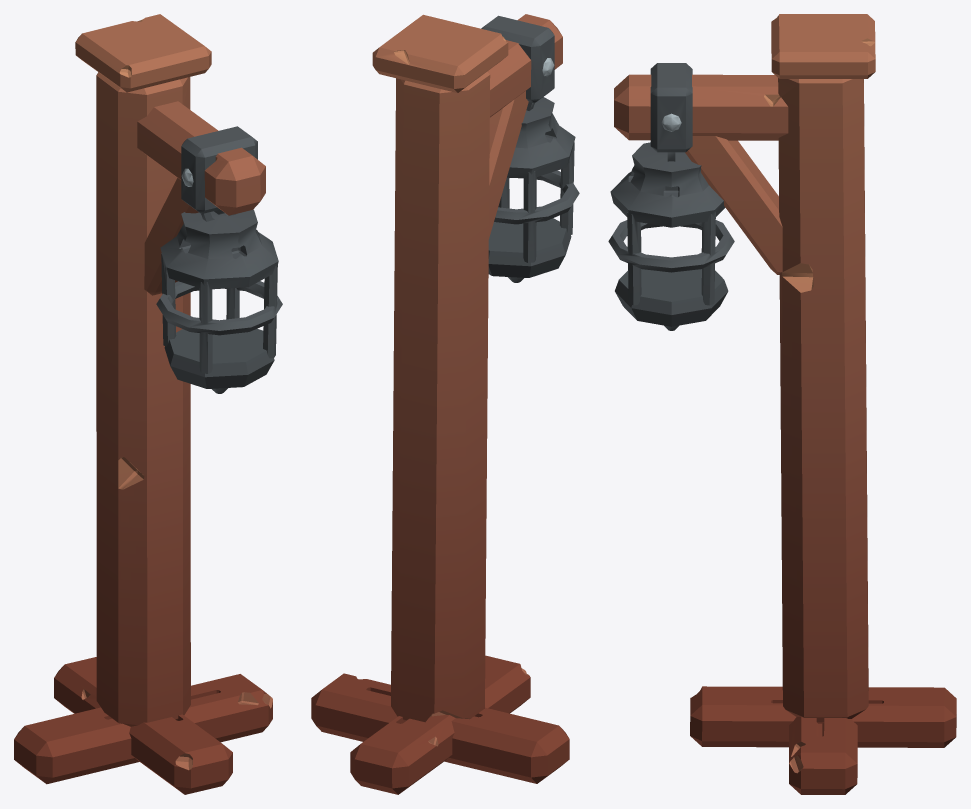
The model's file is mine_lantern_post.glb.
3 views of the same model, side by side, from view 1: azimuth 30°, elevation 25°; view 2: azimuth 150°, elevation 25°; view 3: azimuth 270°, elevation 25° (orthographic).
Parts seen in each view (by area): view 1: mine_lantern_post; view 2: mine_lantern_post; view 3: mine_lantern_post.
Boxes of the visible parts, x1,y1,x2,y2 form: mine_lantern_post: (14, 14, 282, 794); mine_lantern_post: (311, 14, 579, 794); mine_lantern_post: (608, 14, 956, 794).
Bounding box in the file's own units: 1.29 × 3.71 × 1.65.
1 material, 1 textured.
